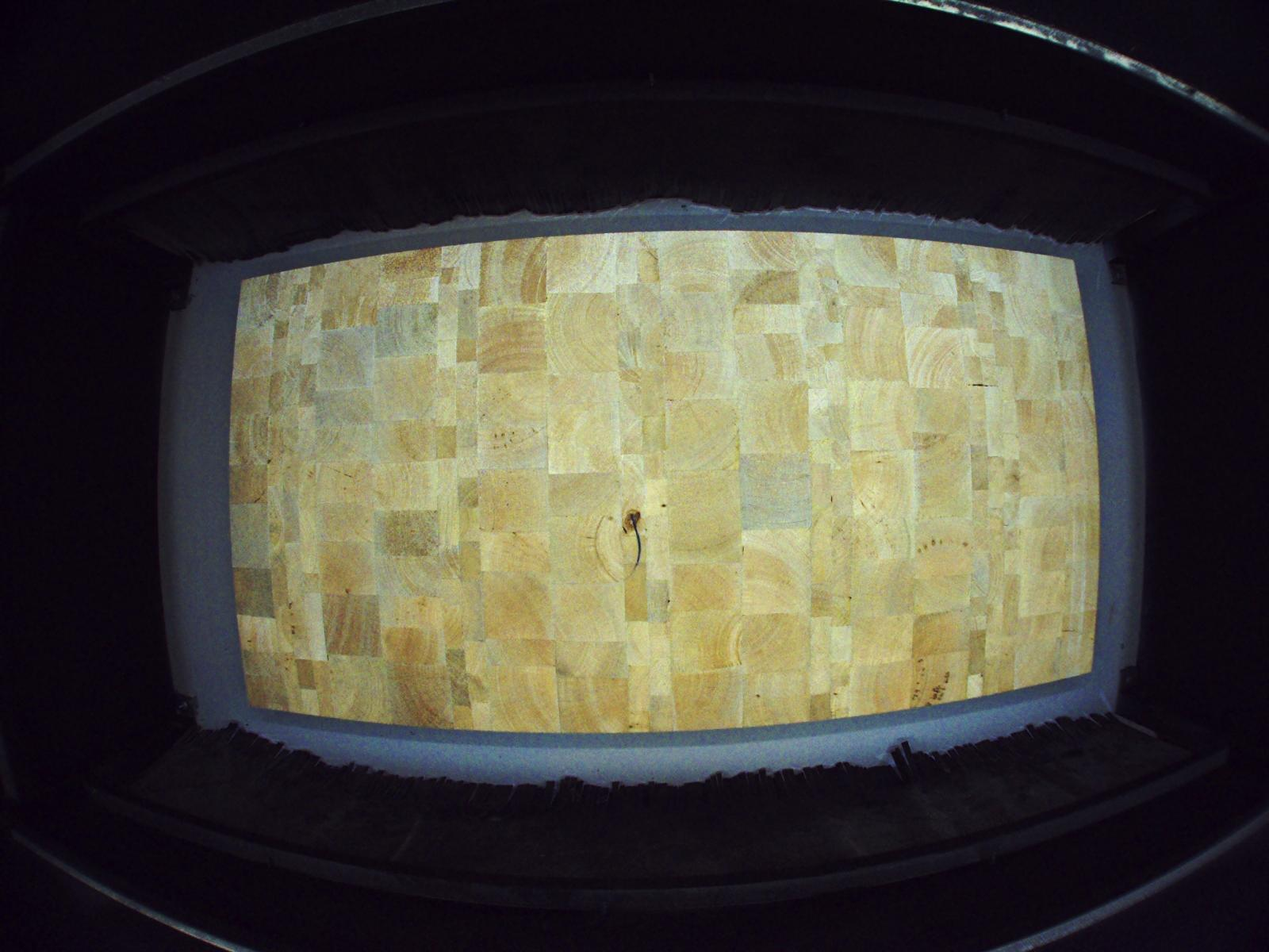nudillo: (620, 506, 644, 535)
